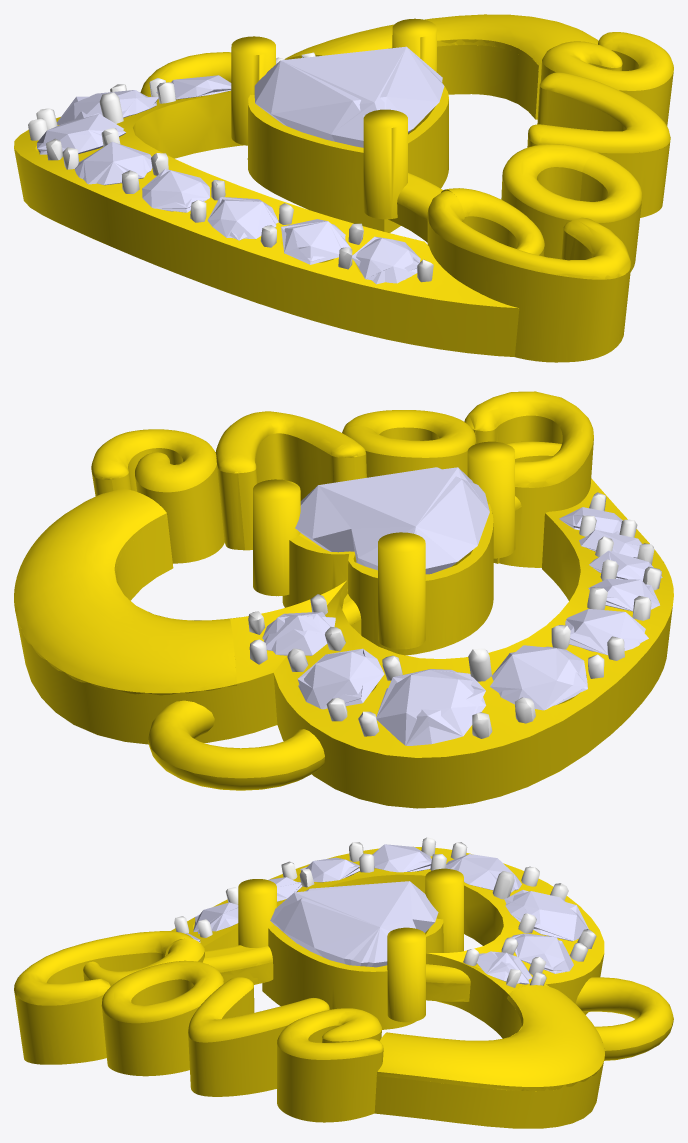
The model's file is DPN-D000675389.glb.
3 views of the same model, one above another, from view 1: azimuth 30°, elevation 25°; view 2: azimuth 150°, elevation 25°; view 3: azimuth 270°, elevation 25° (orthographic). The views are drawn at different scales.
Parts seen in each view (by area): view 1: highPolyMesh, lowPolyMesh; view 2: highPolyMesh, lowPolyMesh; view 3: highPolyMesh, lowPolyMesh.
Part boxes in pixels (left/top/right/bottom): highPolyMesh: left=14, top=14, right=673, bottom=362; lowPolyMesh: left=14, top=14, right=673, bottom=362; highPolyMesh: left=14, top=391, right=672, bottom=805; lowPolyMesh: left=14, top=391, right=673, bottom=808; highPolyMesh: left=14, top=837, right=673, bottom=1128; lowPolyMesh: left=14, top=844, right=672, bottom=1127.
Size of the model in its own units: 0.0113 by 0.00319 by 0.0134.
